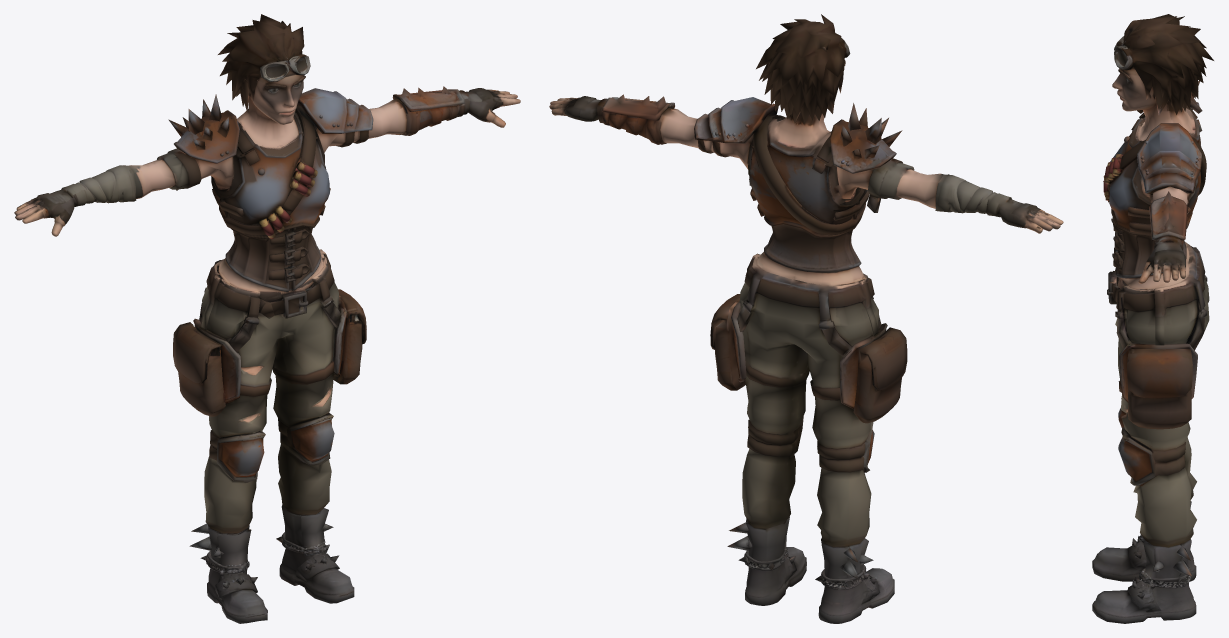
3 renders of one model, left to right at view 1: azimuth 30°, elevation 25°; view 2: azimuth 150°, elevation 25°; view 3: azimuth 270°, elevation 25°, orthographic.
Parts seen in each view (by area): view 1: mesh; view 2: mesh; view 3: mesh.
Boxes of the visible parts, left/top/right/bottom form: mesh: left=14, top=14, right=520, bottom=623; mesh: left=549, top=14, right=1063, bottom=623; mesh: left=1092, top=14, right=1213, bottom=623.
Size of the model in its own units: 104 by 113 by 21.82.
Materials: 1 (1 with a texture image).
